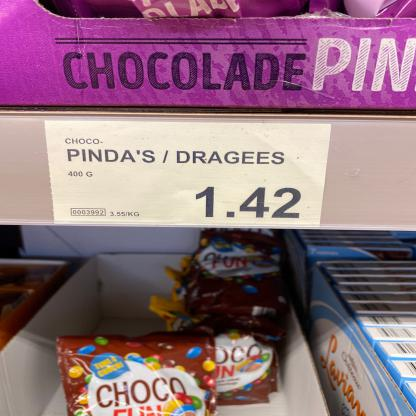prtg: (44, 120, 335, 228)
